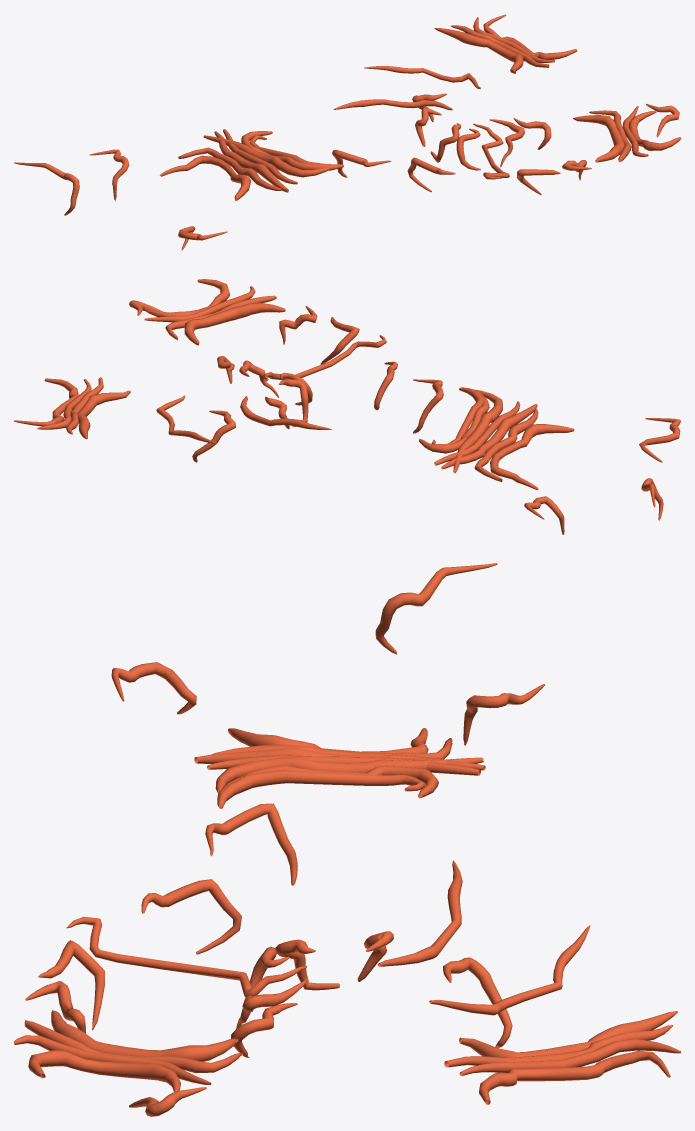
File: v9_level_bridges.fbx
The picture shows the model from 3 angles, top to bottom: view 1: azimuth 30°, elevation 25°; view 2: azimuth 150°, elevation 25°; view 3: azimuth 270°, elevation 25°; orthographic projection. The views are drawn at different scales.
Parts seen in each view (by area): view 1: BezierCurve, BezierCurve.003; view 2: BezierCurve, BezierCurve.003; view 3: BezierCurve, BezierCurve.003.
Boxes of the visible parts, <box> form: BezierCurve: <box>160,14,680,201</box>; BezierCurve.003: <box>14,93,679,250</box>; BezierCurve: <box>14,279,574,490</box>; BezierCurve.003: <box>129,300,680,534</box>; BezierCurve: <box>14,728,680,1104</box>; BezierCurve.003: <box>25,563,544,1116</box>.
Bounding box in the file's own units: 9549 × 1076 × 5283.
